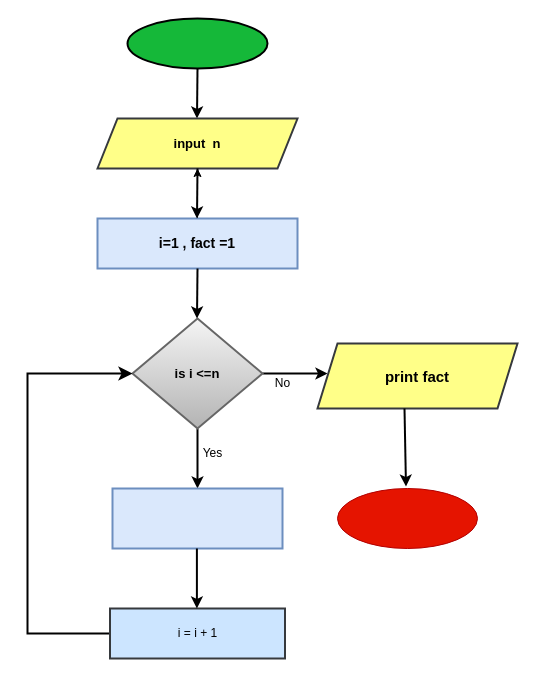
The diagram is 535 pixels wide and 676 high, and some of its shapes have lost their labels. The shapes that lost their labels are listed below. From the top down, each one's box as (x1, y1, x2, y2) in pixels, then its label:
(126, 17, 268, 69): Start
(111, 487, 283, 549): fact = fact * i
(336, 488, 478, 548): End
